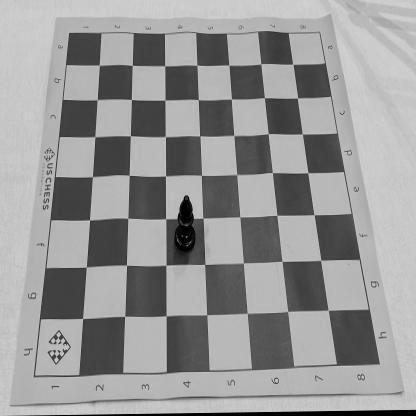black-bishop: (174, 196, 197, 254)
